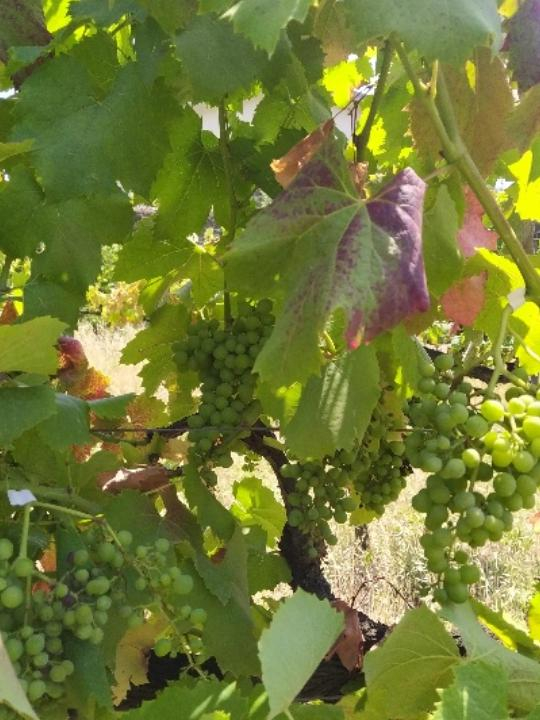grape: (0, 528, 220, 720), (403, 332, 540, 607), (173, 296, 284, 480)
